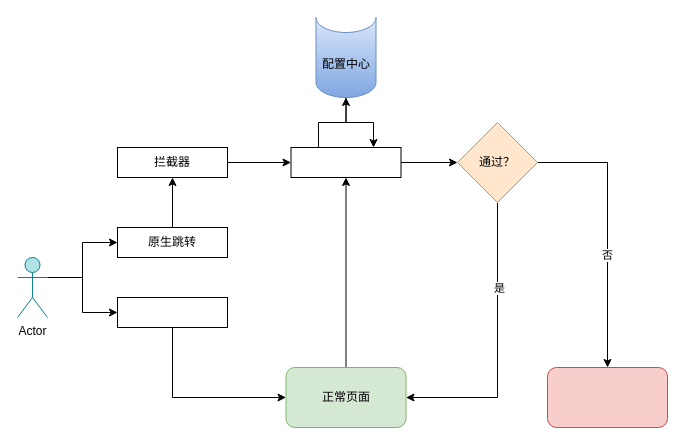
Image size: 685x445. Some labels were removed from this diagram. The centre of each missing label's shape, as x and y in pixels:
"h5活动页、tab页" goes at pixel 172 312.
"降级检查" goes at pixel 345 162.
"降级页面" goes at pixel 607 397.
